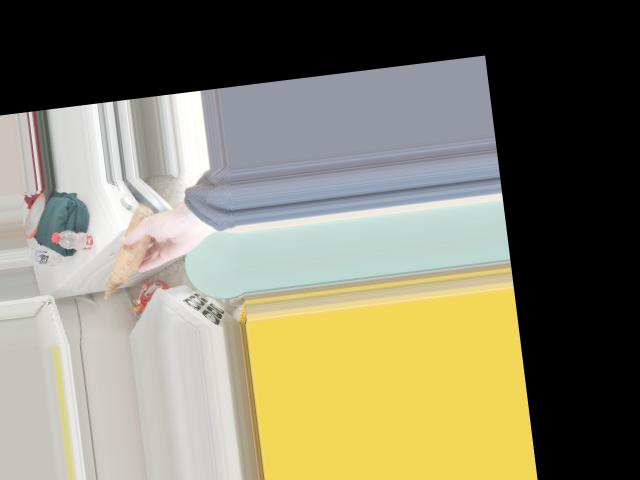sweet_potato: (102, 224, 155, 277)
